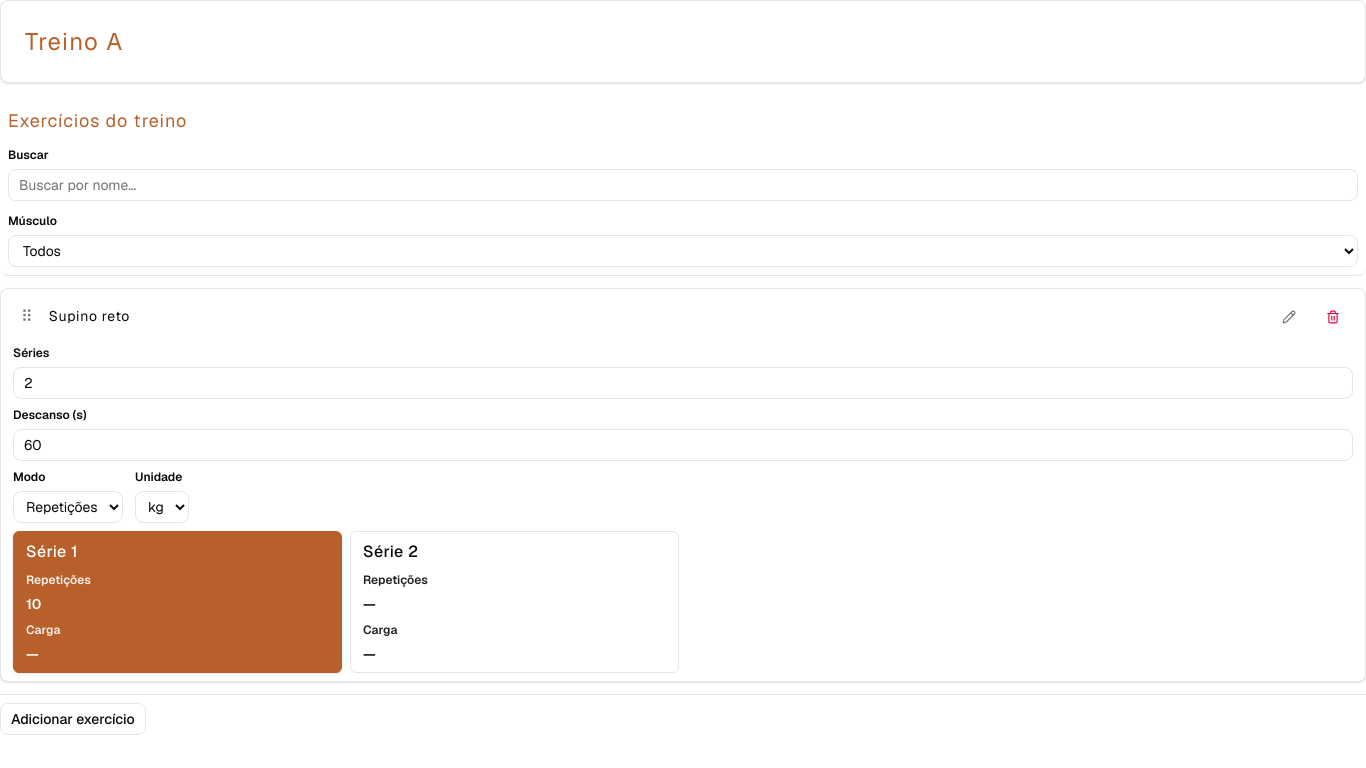
Scenario: modo execução da seção (Mílon #5 — RED) › com flag: hospeda o modal de edição (título com font-display, sem opção de cópia)
Press the mouse on the text "Série 1" at (52, 552), box [26,541,78,562]
Wait 500 ms
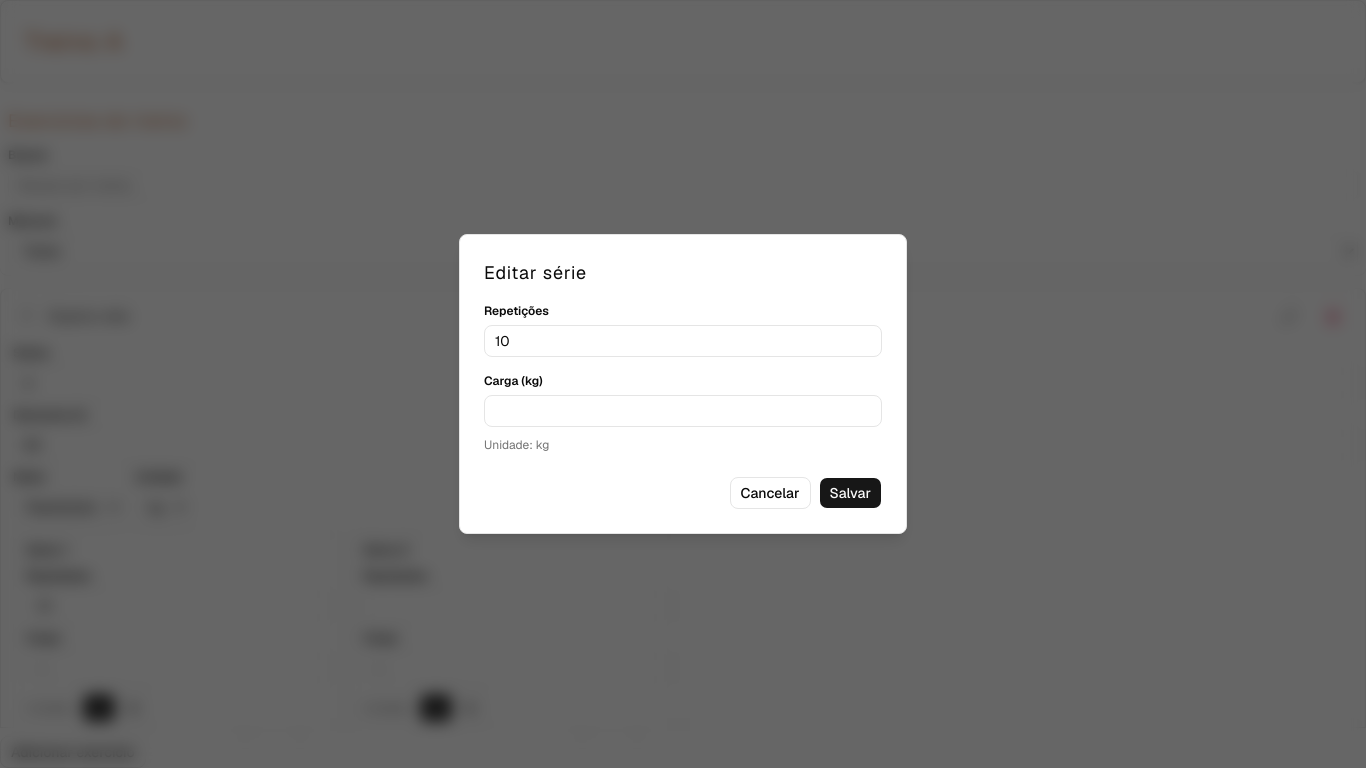
Now the heading "Editar série" is shown, box [484,261,587,284]
